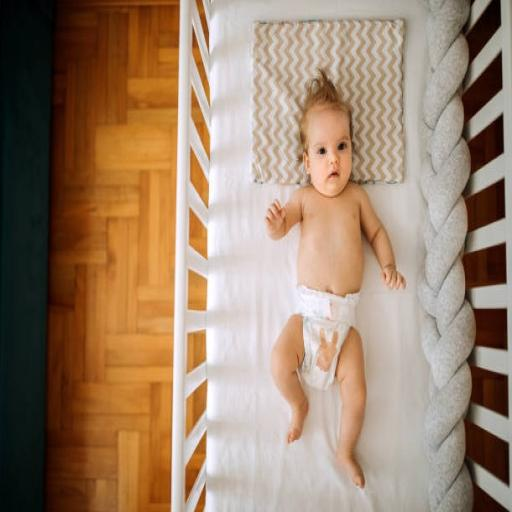baby: (266, 70, 406, 488)
crib: (172, 0, 511, 510)
